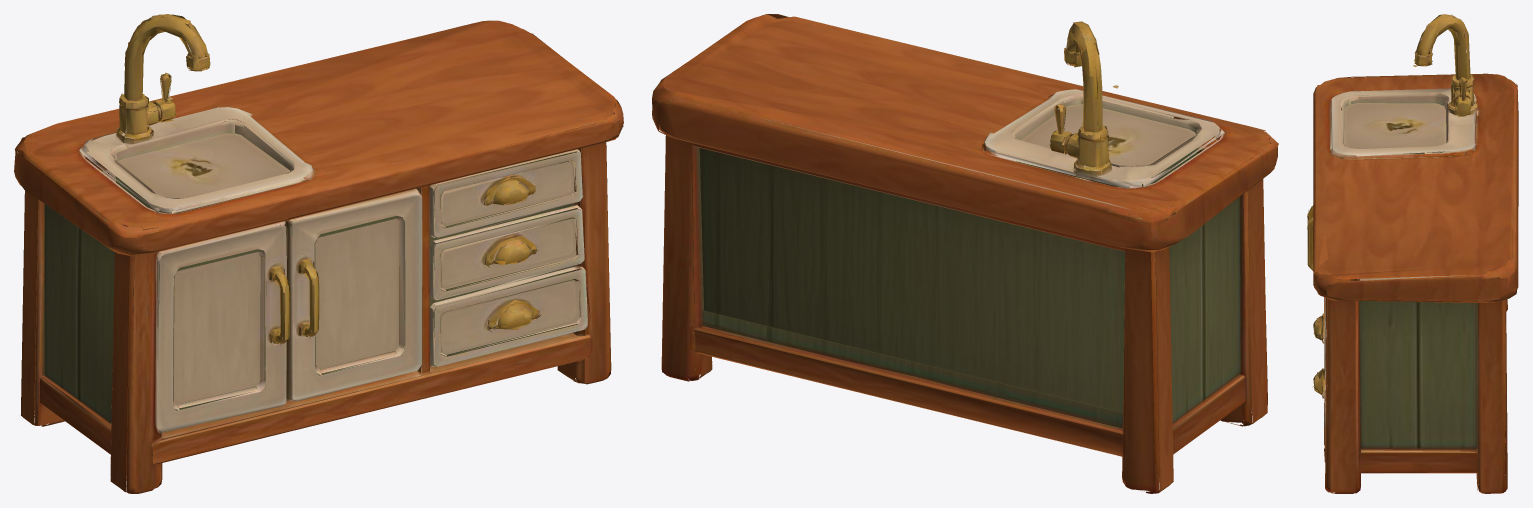
Rendered from kitchen_sink.glb.
3 views of the same model, side by side, from view 1: azimuth 30°, elevation 25°; view 2: azimuth 150°, elevation 25°; view 3: azimuth 270°, elevation 25° (orthographic). The views are drawn at different scales.
Parts seen in each view (by area): view 1: kitchen_sink; view 2: kitchen_sink; view 3: kitchen_sink.
Part boxes in pixels (x1,y1,x2,y2): kitchen_sink: [14, 14, 623, 493]; kitchen_sink: [652, 14, 1278, 493]; kitchen_sink: [1307, 14, 1518, 493].
Bounding box in the file's own units: 1.26 × 0.9499 × 0.5504.
Materials: 1 (1 with a texture image).
